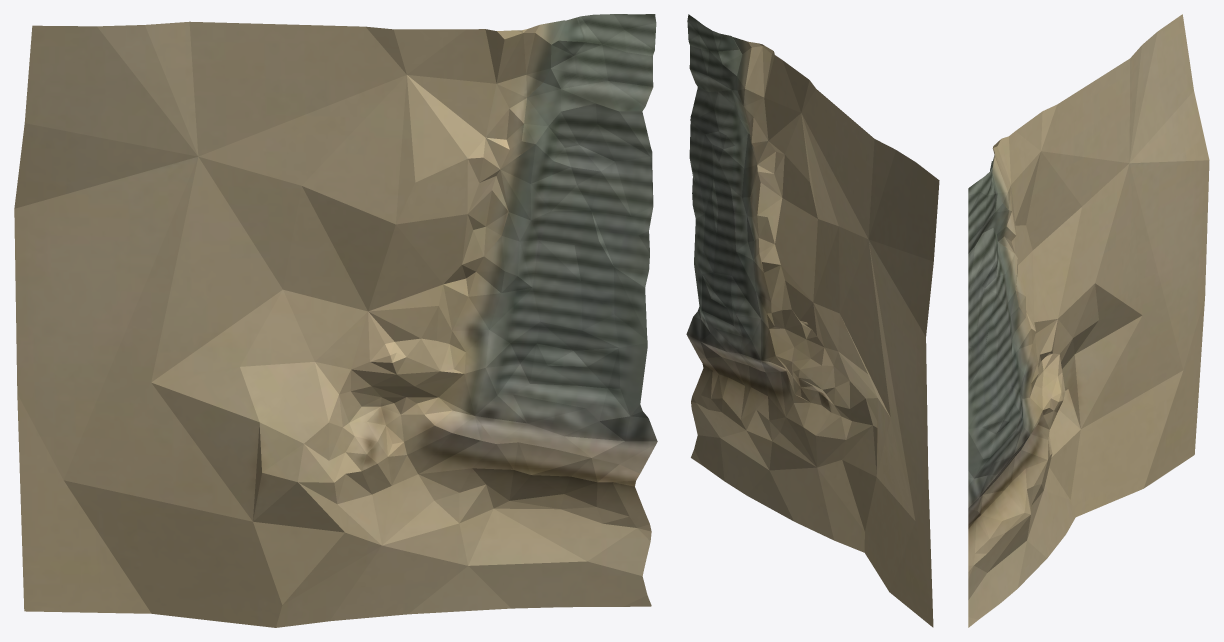
The picture shows the model from 3 angles, left to right: view 1: azimuth 30°, elevation 25°; view 2: azimuth 150°, elevation 25°; view 3: azimuth 270°, elevation 25°; orthographic projection. The views are drawn at different scales.
Size of the model in its own units: 1.43 by 1.67 by 0.8297.
2 materials, 2 textured.
